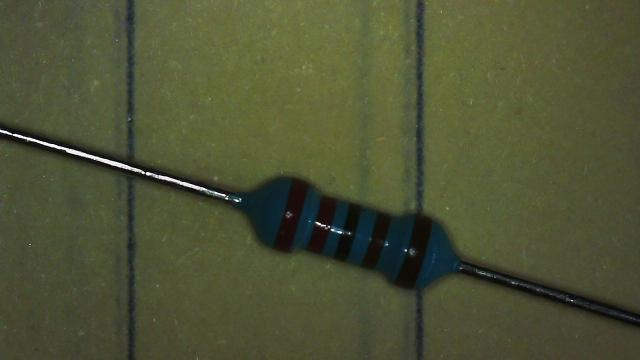black: (334, 203, 361, 260)
brown: (394, 216, 431, 288), (362, 212, 390, 268)
red: (273, 179, 308, 252), (308, 196, 337, 253)
resistor: (208, 141, 489, 329)
